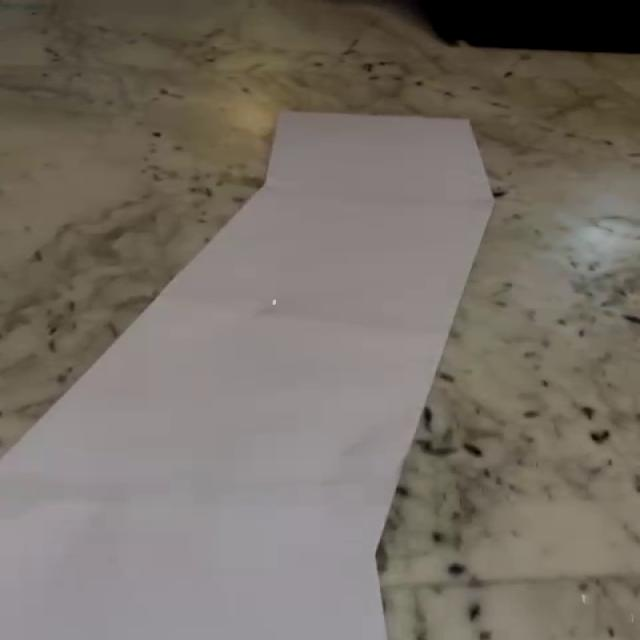road: (1, 107, 495, 640)
